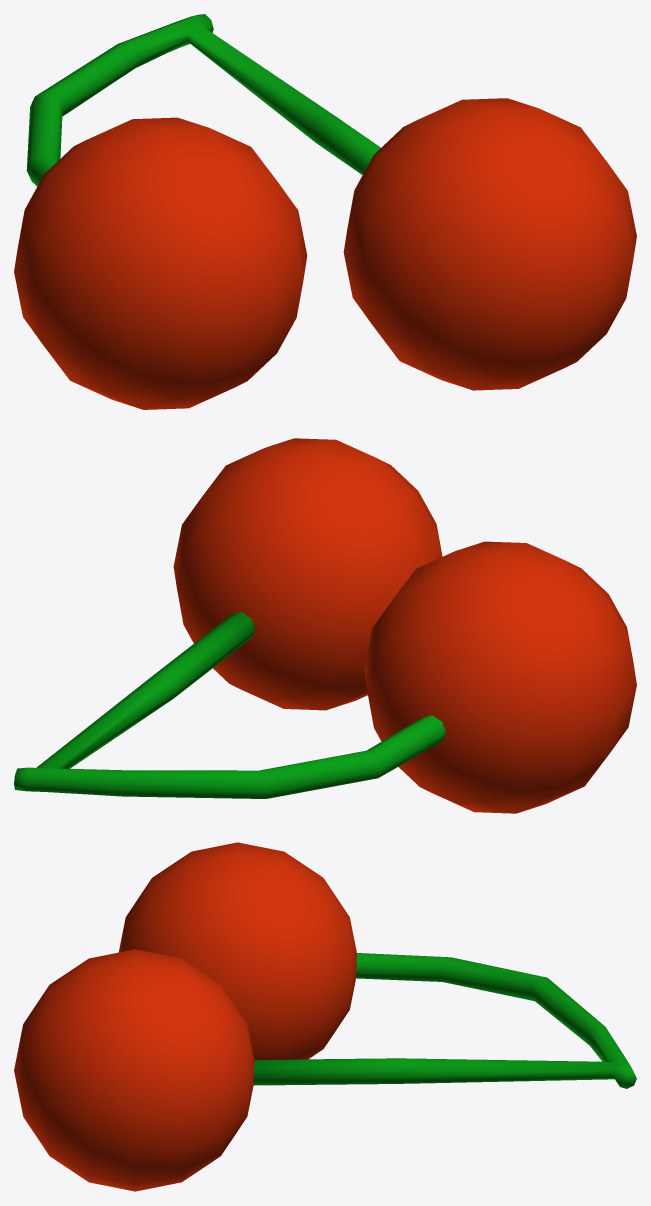
Rendered from Cherry.fbx.
3 views of the same model, one above another, from view 1: azimuth 30°, elevation 25°; view 2: azimuth 150°, elevation 25°; view 3: azimuth 270°, elevation 25° (orthographic). The views are drawn at different scales.
Visible parts, largest first — view 1: Fetus; view 2: Fetus; view 3: Fetus.
Boxes of the visible parts, left/top/right/bottom form: Fetus: left=14, top=14, right=636, bottom=409; Fetus: left=14, top=438, right=636, bottom=813; Fetus: left=14, top=842, right=636, bottom=1191.
Size of the model in its own units: 1.09 by 0.5313 by 1.36.
